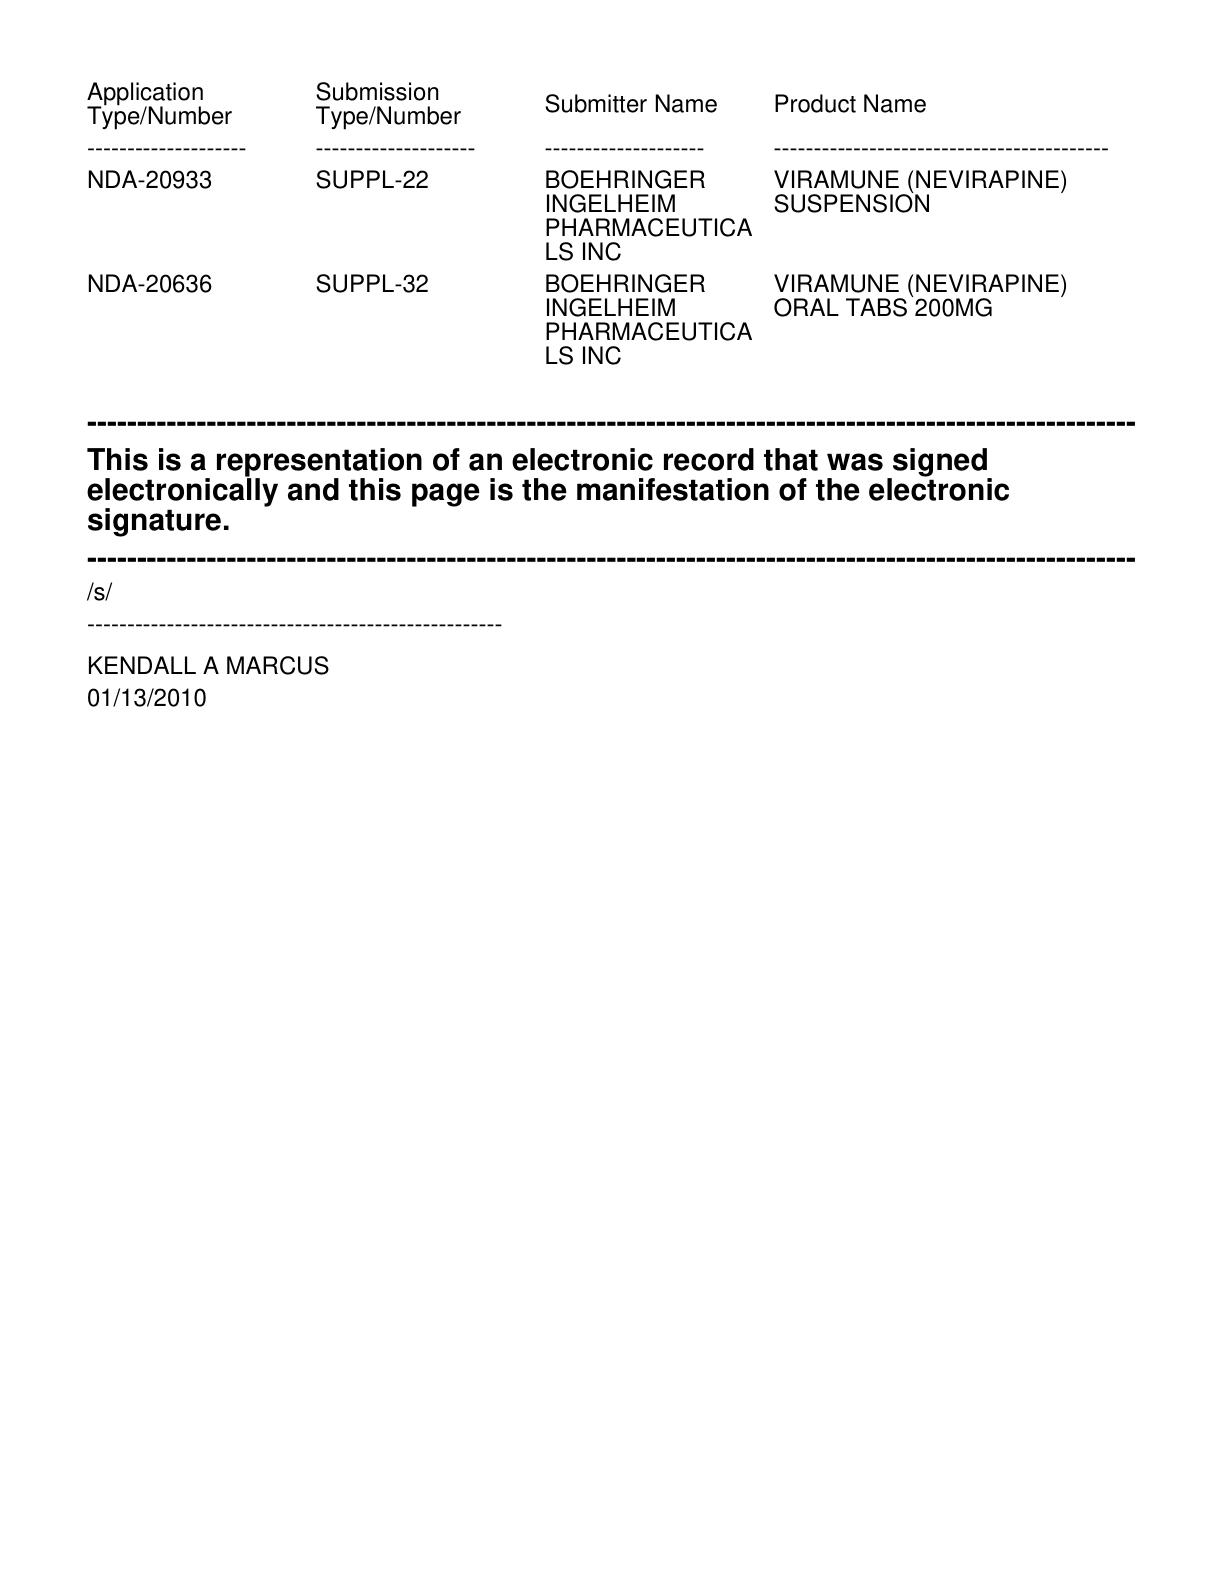nolines: (78, 77, 1110, 368)
